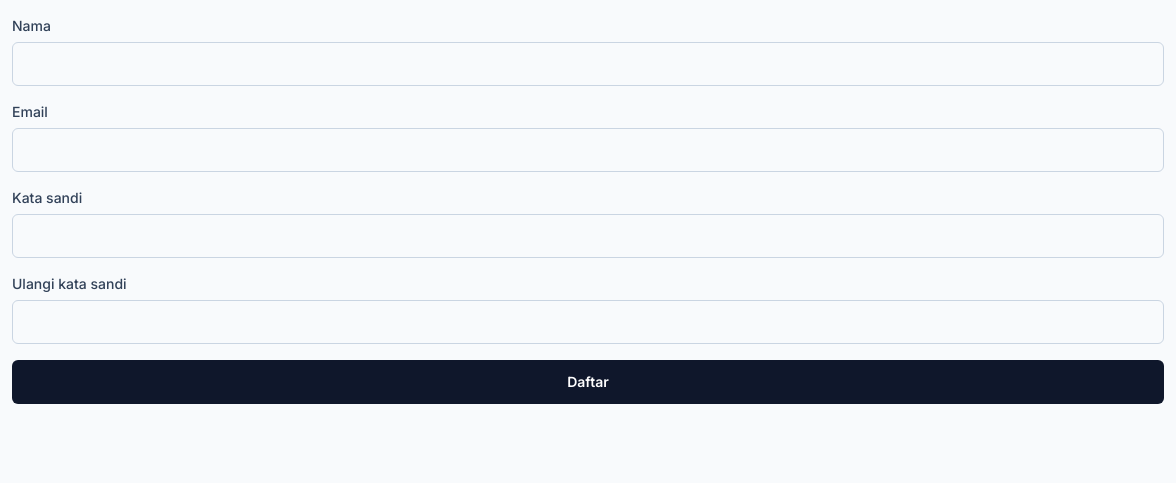
Test: SignupForm (FR-001a) › registers a Spectator account and asks the user to confirm email
Type "Nama User" into the field labelled "Nama" at (588, 64), box left=12, top=42, right=1164, bottom=86
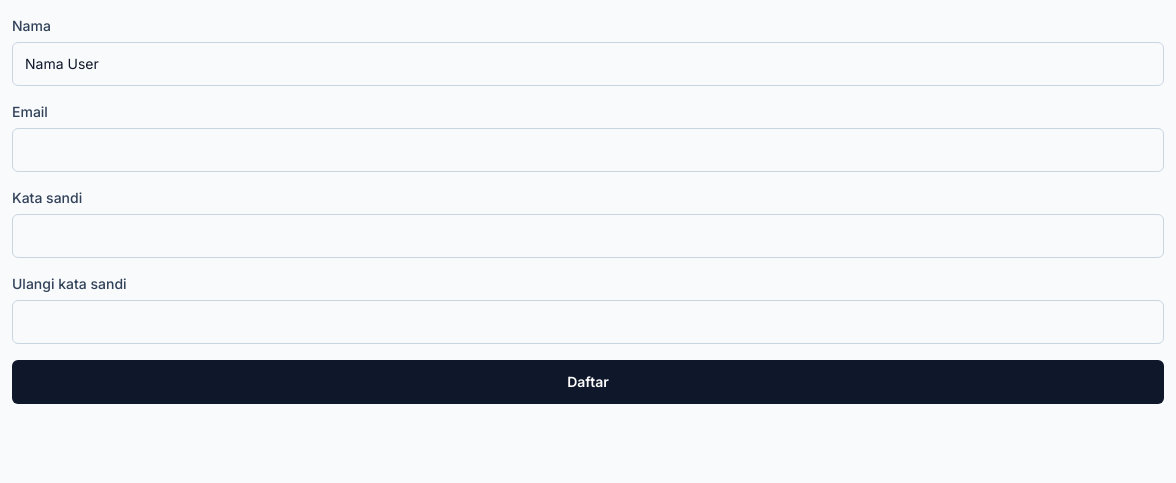
Type "user@example.com" into the field labelled "Email" at (588, 150), box left=12, top=128, right=1164, bottom=172
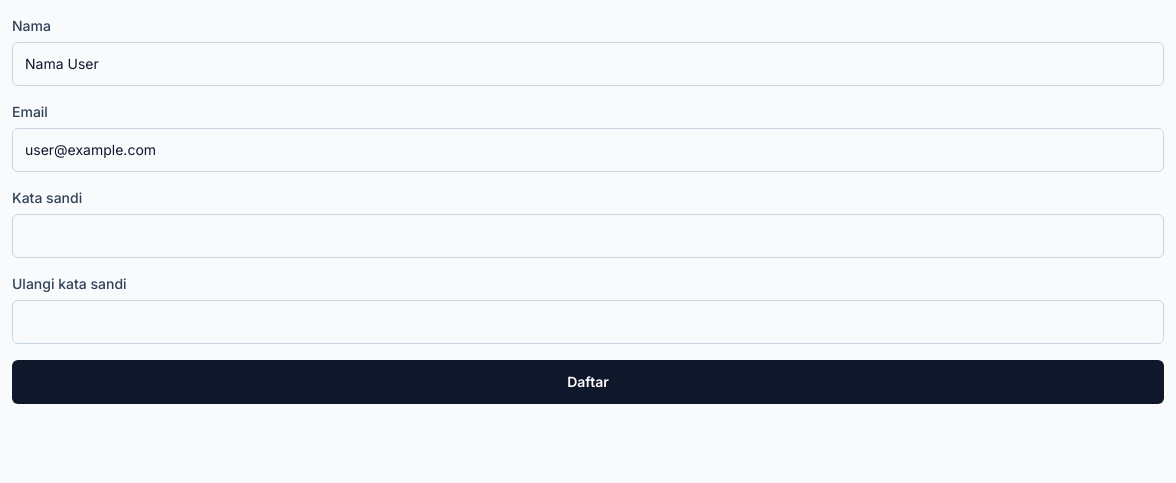
Type "password-123" into the password field labelled "Kata sandi" at (588, 236), box left=12, top=214, right=1164, bottom=258
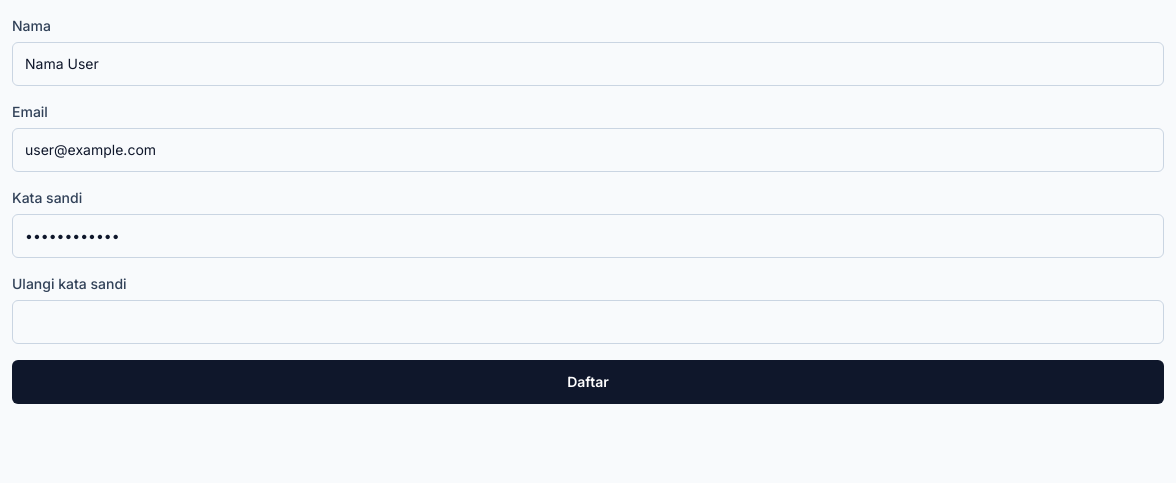
Type "password-123" into the password field labelled "Ulangi kata sandi" at (588, 322), box left=12, top=300, right=1164, bottom=344
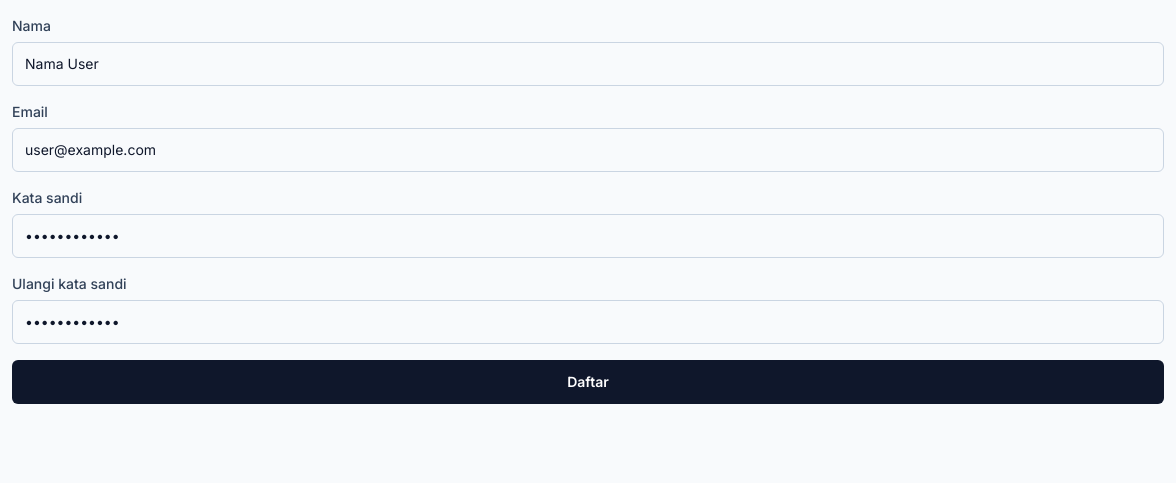
Click the button "Daftar" at (588, 382), box left=12, top=360, right=1164, bottom=404
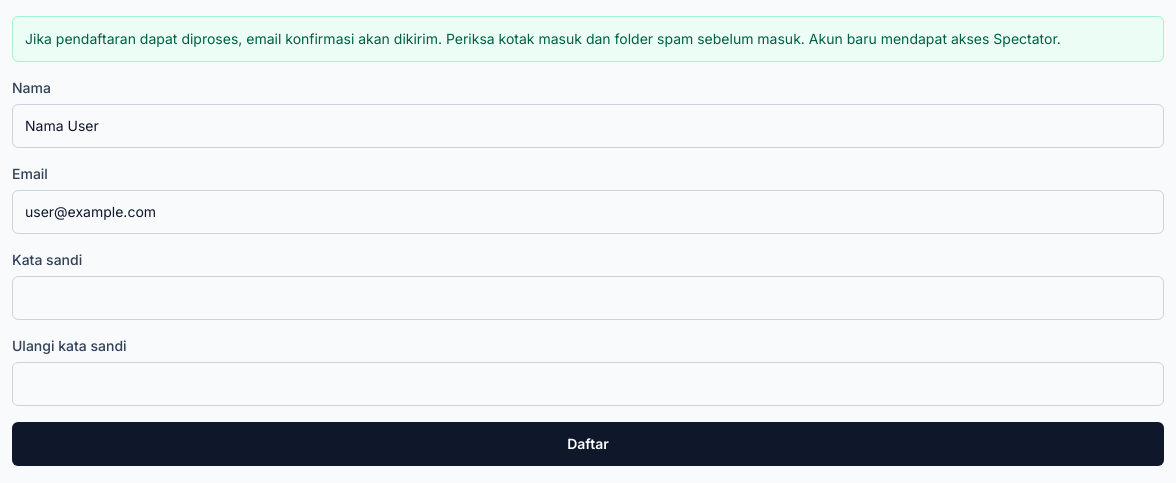
expect the message shows "konfirmasi": met, box left=25, top=30, right=1061, bottom=47
